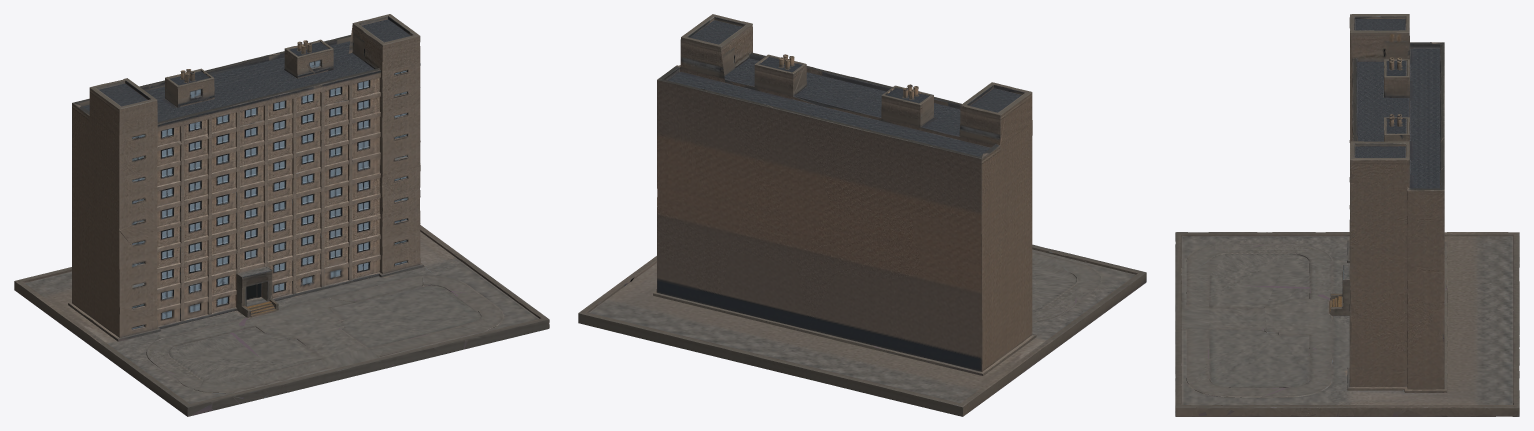
Rendered from building_postwar_tower_block.glb.
3 renders of one model, left to right at view 1: azimuth 30°, elevation 25°; view 2: azimuth 150°, elevation 25°; view 3: azimuth 270°, elevation 25°, orthographic. The views are drawn at different scales.
Parts seen in each view (by area): view 1: output_unwrapped; view 2: output_unwrapped; view 3: output_unwrapped.
Boxes of the visible parts, box(x1,y1,x2,y2) form: output_unwrapped: box(14, 14, 549, 416); output_unwrapped: box(578, 14, 1146, 416); output_unwrapped: box(1175, 14, 1519, 416).
Size of the model in its own units: 2 by 1.26 by 1.66.
1 material, 1 textured.
